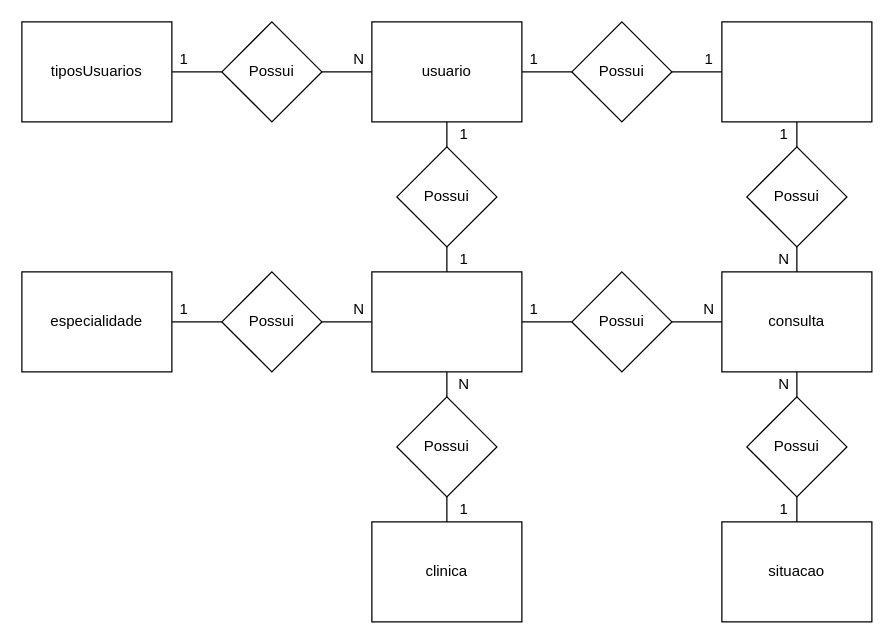
Some shapes in this 894 by 644 pixel diagram are drawn without their labels. Here are the shapes that lost their labels. From the top down, the centre of each, then its label:
At [796,71]: "paciente".
At [446,321]: "medico".
